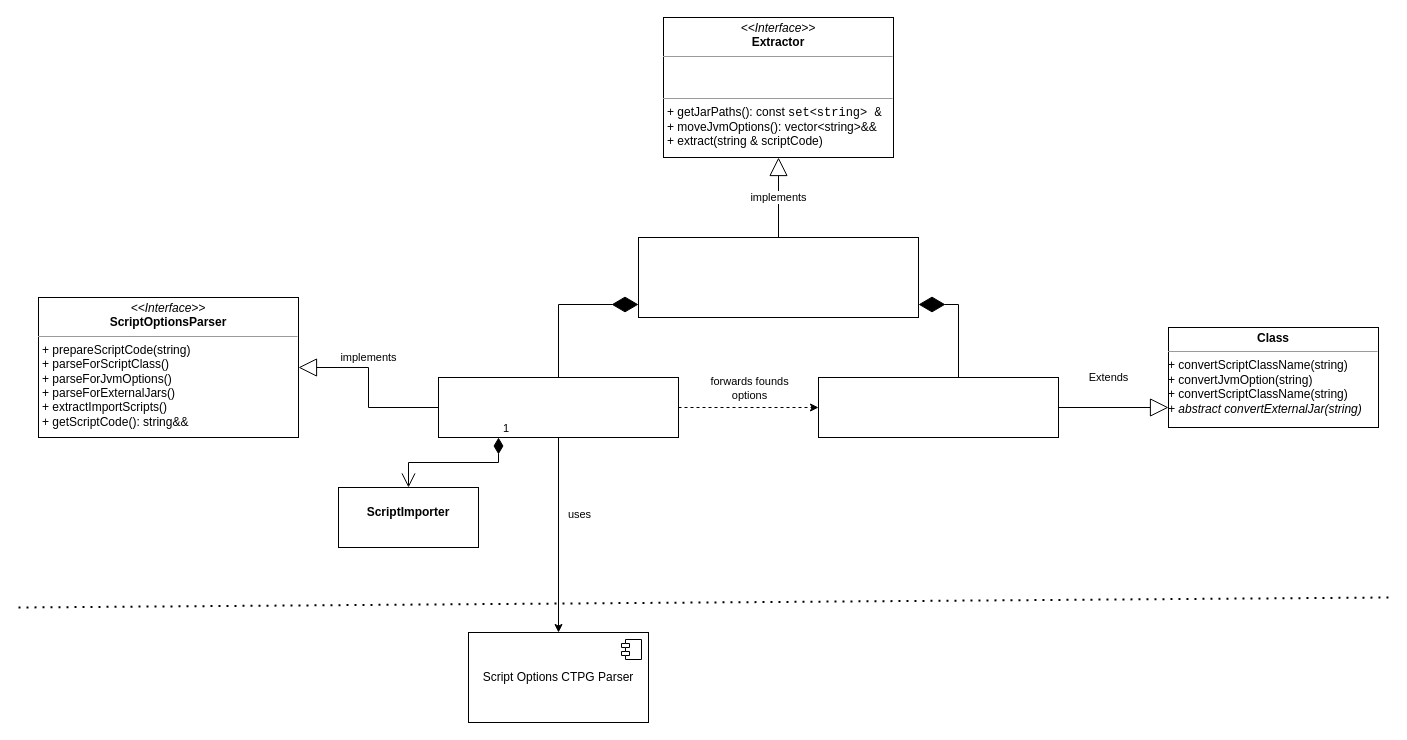
Image size: 1407x740. Some labels were removed from this diagram. Here are the shapes that lost their labels. From the top down, the box of each, then its label:
(638, 236, 918, 318): tExtractorV2
(438, 376, 678, 438): ScriptOptionsLinesParserCTPG
(818, 376, 1058, 438): ConverterV2
